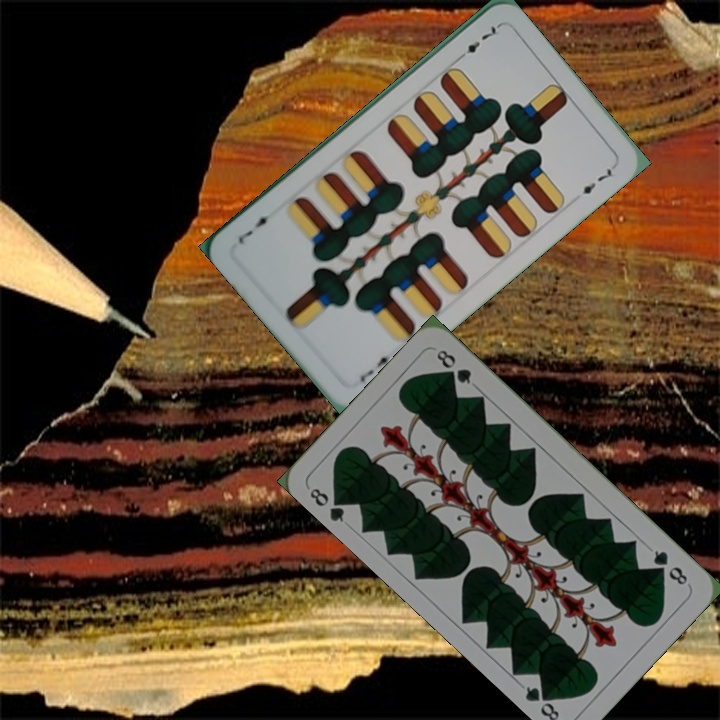E7: (453, 21, 502, 64), (356, 349, 398, 385)
G8: (305, 483, 351, 525), (649, 546, 691, 588)
